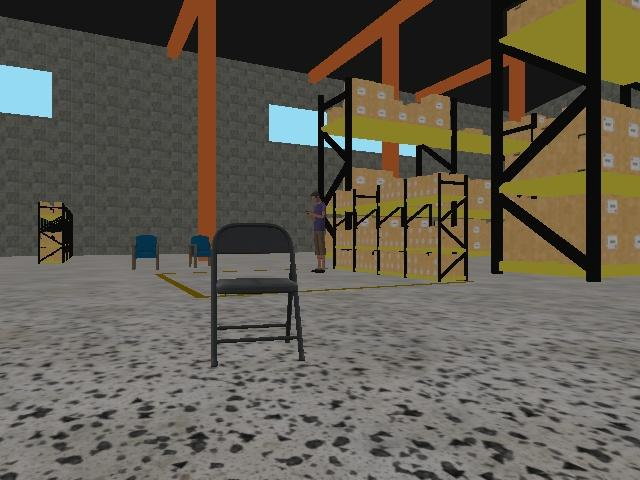chair: (210, 223, 305, 367), (131, 235, 161, 270), (188, 234, 211, 269)
person: (306, 191, 327, 274)
